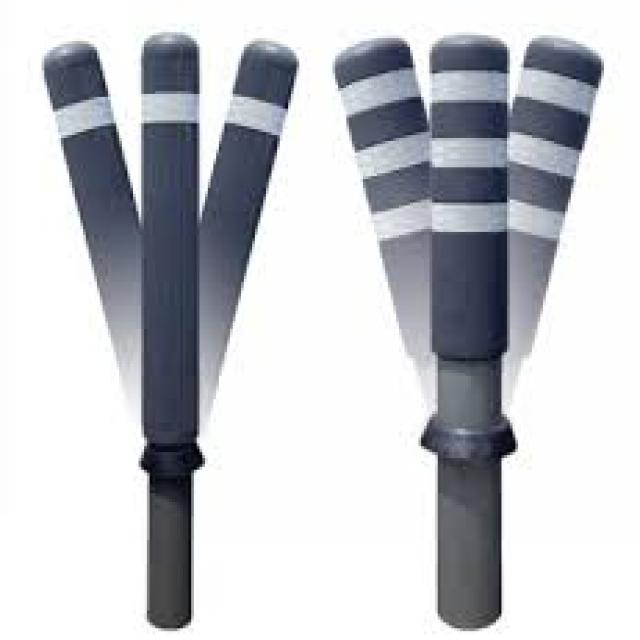bollard: (422, 31, 516, 635), (124, 23, 214, 634)
